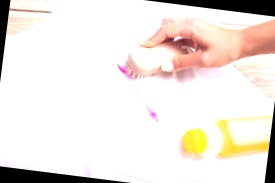lipstick: (143, 105, 161, 125), (116, 62, 131, 81), (133, 86, 143, 98)
